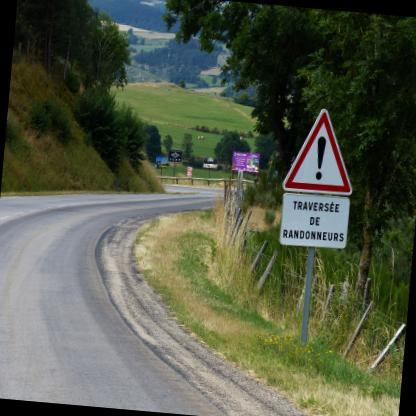road_sign: (283, 109, 351, 194), (277, 193, 348, 248)
